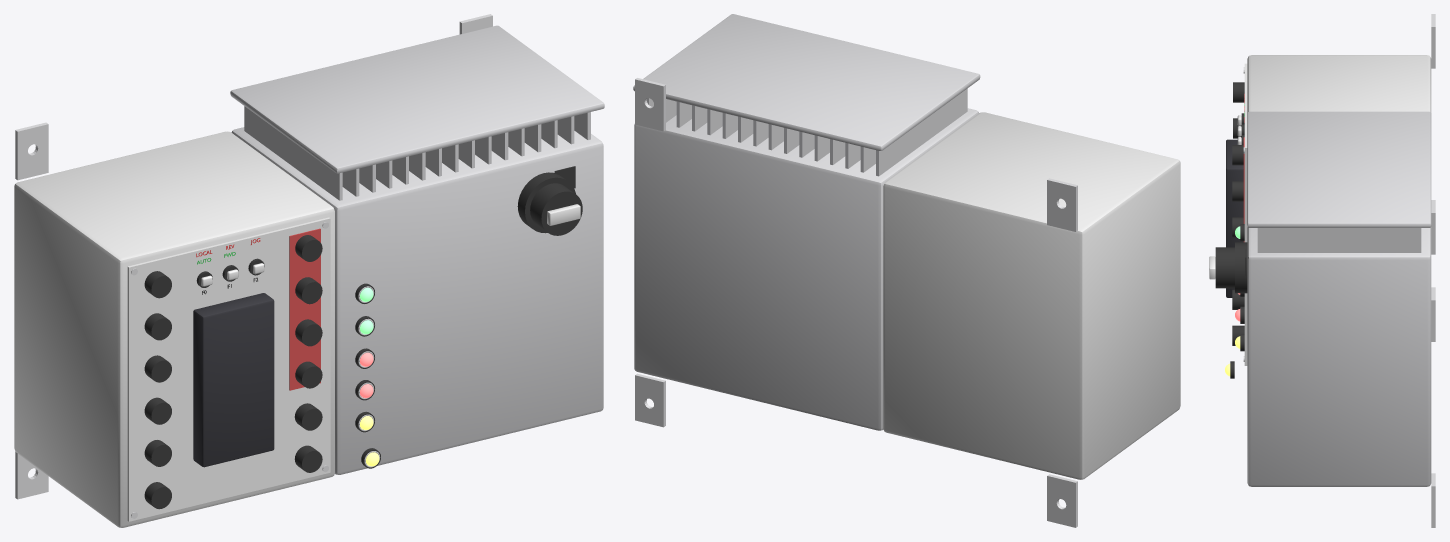
File: APF.glb
3 views of the same model, side by side, from view 1: azimuth 30°, elevation 25°; view 2: azimuth 150°, elevation 25°; view 3: azimuth 270°, elevation 25° (orthographic). The views are drawn at different scales.
Visible parts, largest first — view 1: BodyRight, BodyLeft, HeatsinkTopCap, ControlPanel, PowerFlexModule, RedStrip, Fin_00, Ear_0, SwitchInner, SwitchBase, Ear_2; view 2: BodyLeft, BodyRight, HeatsinkTopCap, Fin_00, Ear_1, Ear_0, Ear_2, Ear_3; view 3: BodyRight, HeatsinkTopCap, BodyLeft, Fin_15, PowerFlexModule, ControlPanel, SwitchInner, SwitchBase.
Part boxes in pixels (left/top/right/bottom): BodyRight: left=231, top=127, right=603, bottom=474; BodyLeft: left=14, top=131, right=334, bottom=527; HeatsinkTopCap: left=230, top=25, right=604, bottom=173; ControlPanel: left=127, top=217, right=330, bottom=521; PowerFlexModule: left=193, top=293, right=274, bottom=467; RedStrip: left=289, top=228, right=320, bottom=390; Fin_00: left=244, top=106, right=342, bottom=200; Ear_0: left=15, top=122, right=48, bottom=180; SwitchInner: left=530, top=183, right=582, bottom=235; SwitchBase: left=517, top=172, right=575, bottom=233; Ear_2: left=15, top=451, right=48, bottom=499; BodyLeft: left=883, top=112, right=1180, bottom=479; BodyRight: left=634, top=108, right=978, bottom=430; HeatsinkTopCap: left=633, top=14, right=980, bottom=151; Fin_00: left=876, top=88, right=967, bottom=176; Ear_1: left=635, top=78, right=665, bottom=131; Ear_0: left=1047, top=178, right=1077, bottom=231; Ear_2: left=1047, top=474, right=1077, bottom=527; Ear_3: left=635, top=373, right=665, bottom=427; BodyRight: left=1247, top=227, right=1431, bottom=486; HeatsinkTopCap: left=1247, top=111, right=1431, bottom=227; BodyLeft: left=1247, top=55, right=1431, bottom=112; Fin_15: left=1257, top=228, right=1421, bottom=252; PowerFlexModule: left=1226, top=139, right=1243, bottom=297; ControlPanel: left=1244, top=63, right=1247, bottom=365; SwitchInner: left=1215, top=247, right=1234, bottom=288; SwitchBase: left=1235, top=242, right=1247, bottom=293.
Size of the model in its own units: 0.47 by 0.34 by 0.221.
